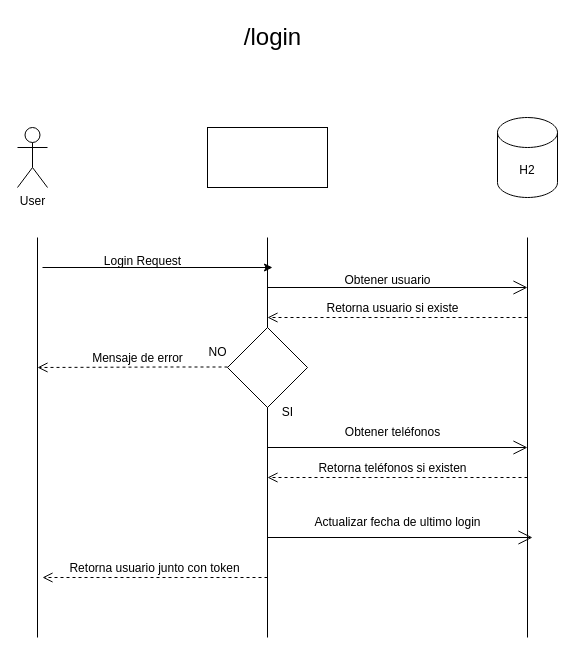
This 575x656 diagram has some shape labels left out. Here are the shapes that lost their labels. From the top down, the box of each, then its label:
(206, 126, 328, 188): Login
(226, 326, 308, 408): Existe usuario
